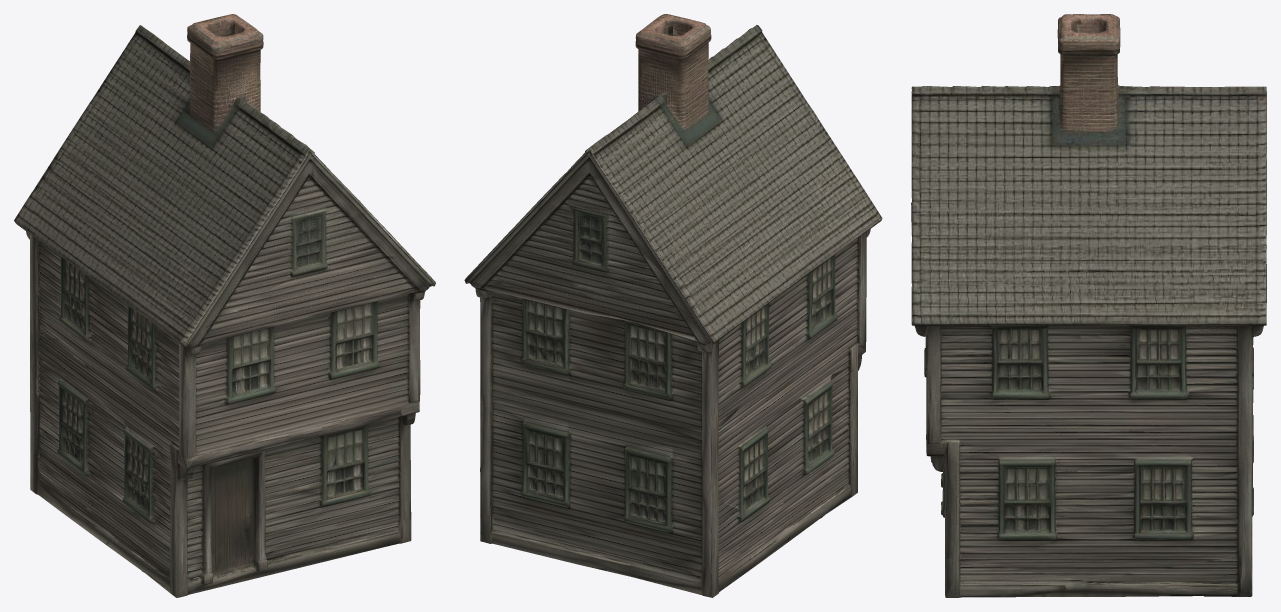
The model's file is bldg-row-clapboard-a.glb.
3 renders of one model, left to right at view 1: azimuth 30°, elevation 25°; view 2: azimuth 150°, elevation 25°; view 3: azimuth 270°, elevation 25°, orthographic. The views are drawn at different scales.
Parts seen in each view (by area): view 1: Mesh_0; view 2: Mesh_0; view 3: Mesh_0.
Part boxes in pixels (x1,y1,x2,y2): Mesh_0: [14, 14, 435, 597]; Mesh_0: [464, 14, 882, 597]; Mesh_0: [911, 14, 1266, 597].
Bounding box in the file's own units: 1.02 × 1.9 × 1.19.
1 material, 1 textured.
